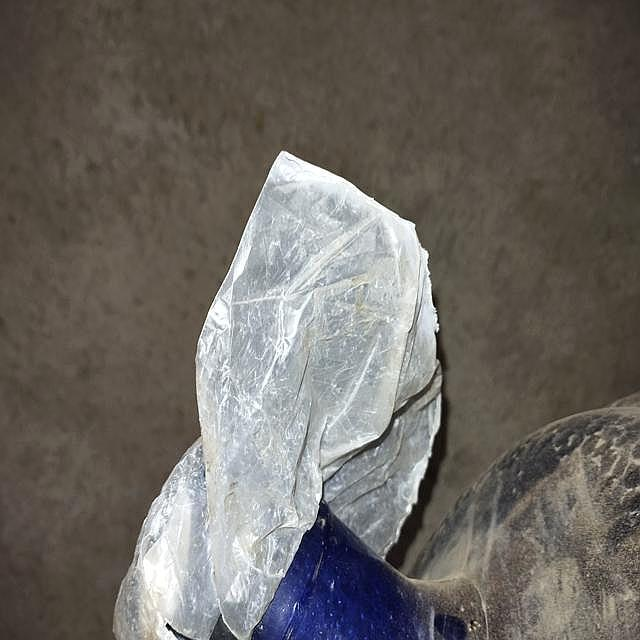Non-biodegradable: (115, 153, 640, 640)
